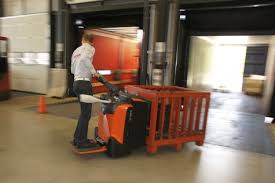Pallet Jack: (71, 71, 214, 157)
